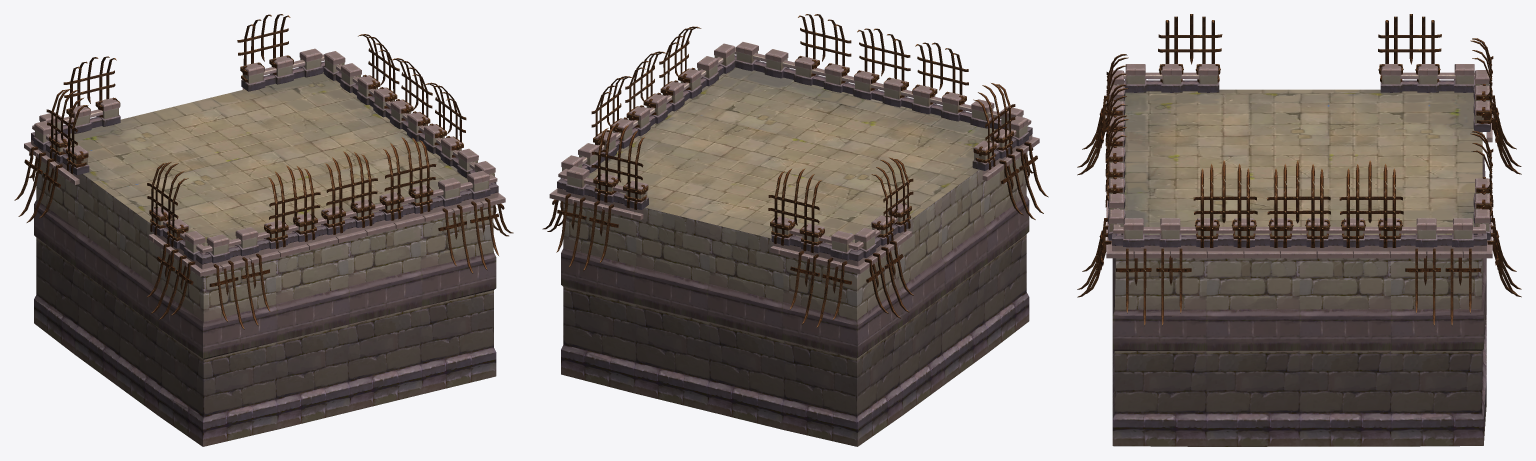
Rendered from idle_ground_20_01.fbx.
3 views of the same model, side by side, from view 1: azimuth 30°, elevation 25°; view 2: azimuth 150°, elevation 25°; view 3: azimuth 270°, elevation 25° (orthographic). The views are drawn at different scales.
Visible parts, largest first — view 1: pingtai20_01; view 2: pingtai20_01; view 3: pingtai20_01.
Part boxes in pixels (bbox=[...]): pingtai20_01: bbox=[14, 14, 513, 446]; pingtai20_01: bbox=[542, 14, 1048, 446]; pingtai20_01: bbox=[1077, 14, 1521, 446].
Size of the model in its own units: 2417 by 1688 by 2431.
Materials: 1 (1 with a texture image).
